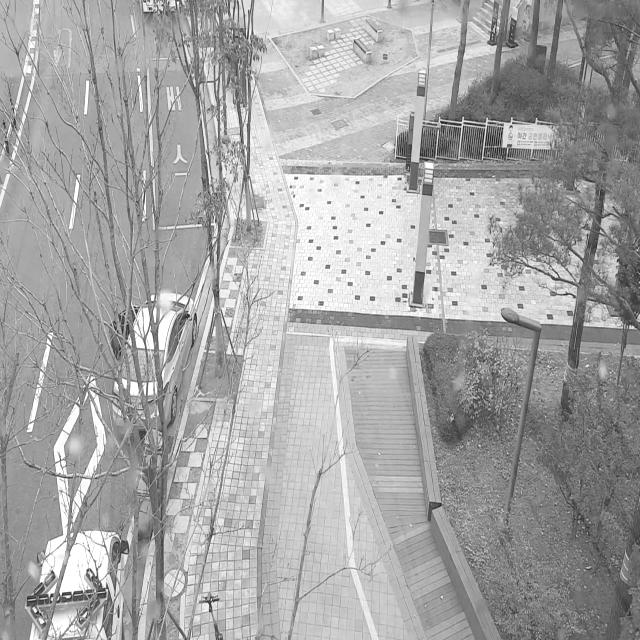Bus: (128, 0, 188, 20)
Car: (110, 258, 205, 450)
Truck: (12, 512, 127, 640)
